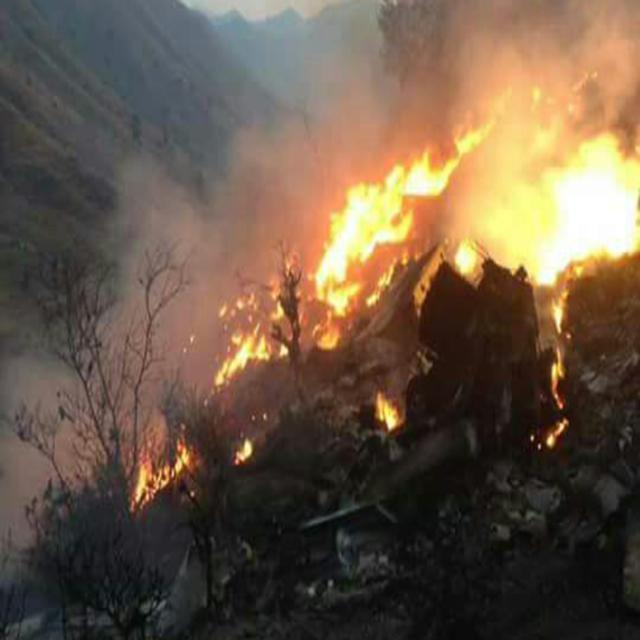Fire: (298, 88, 513, 360), (524, 119, 640, 302), (206, 276, 298, 400), (527, 273, 576, 459), (125, 434, 198, 510), (371, 384, 408, 438)
Smoke: (102, 0, 640, 468), (0, 326, 107, 588)
